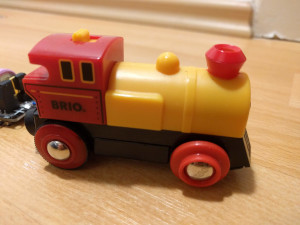brio: (26, 27, 253, 181)
